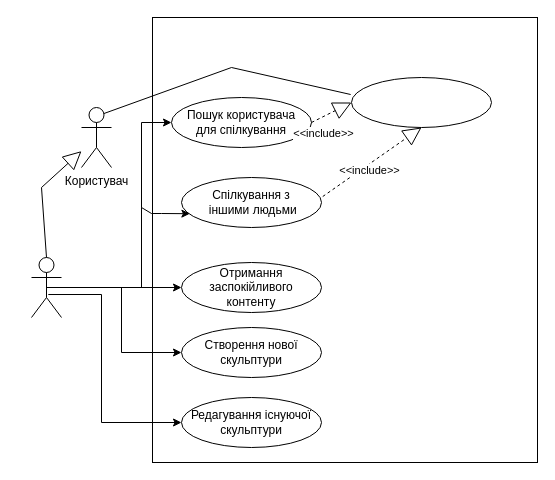
This 555x480 diagram has some shape labels left out. The shapes that lost their labels are listed below. From the top down, each one's centre as x and y in pixels, then its label:
the point at 421,102: Авторизувати користувача
the point at 46,287: Скульптор
